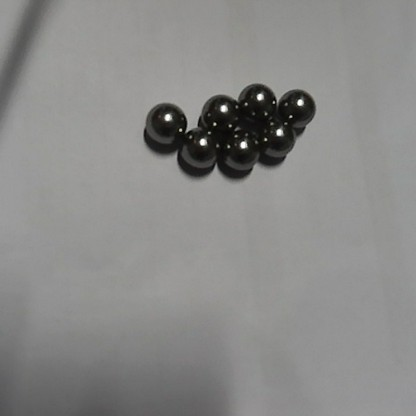ironball: (146, 103, 186, 144), (179, 128, 218, 170), (221, 128, 258, 170), (238, 83, 275, 124), (277, 88, 314, 123), (201, 94, 235, 129), (258, 123, 292, 157)
